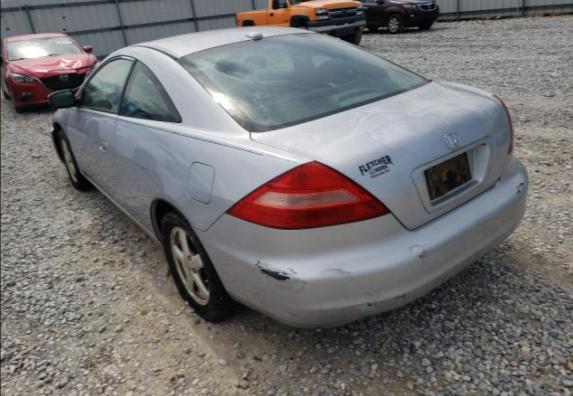Missing part: (424, 151, 471, 202)
Paint chip: (253, 263, 290, 282), (416, 246, 435, 259), (514, 182, 525, 194), (366, 301, 376, 307), (393, 294, 405, 299)
Scratch: (291, 279, 307, 293), (319, 268, 350, 275), (408, 243, 424, 256), (364, 290, 381, 296), (285, 311, 296, 318), (288, 267, 297, 275)
